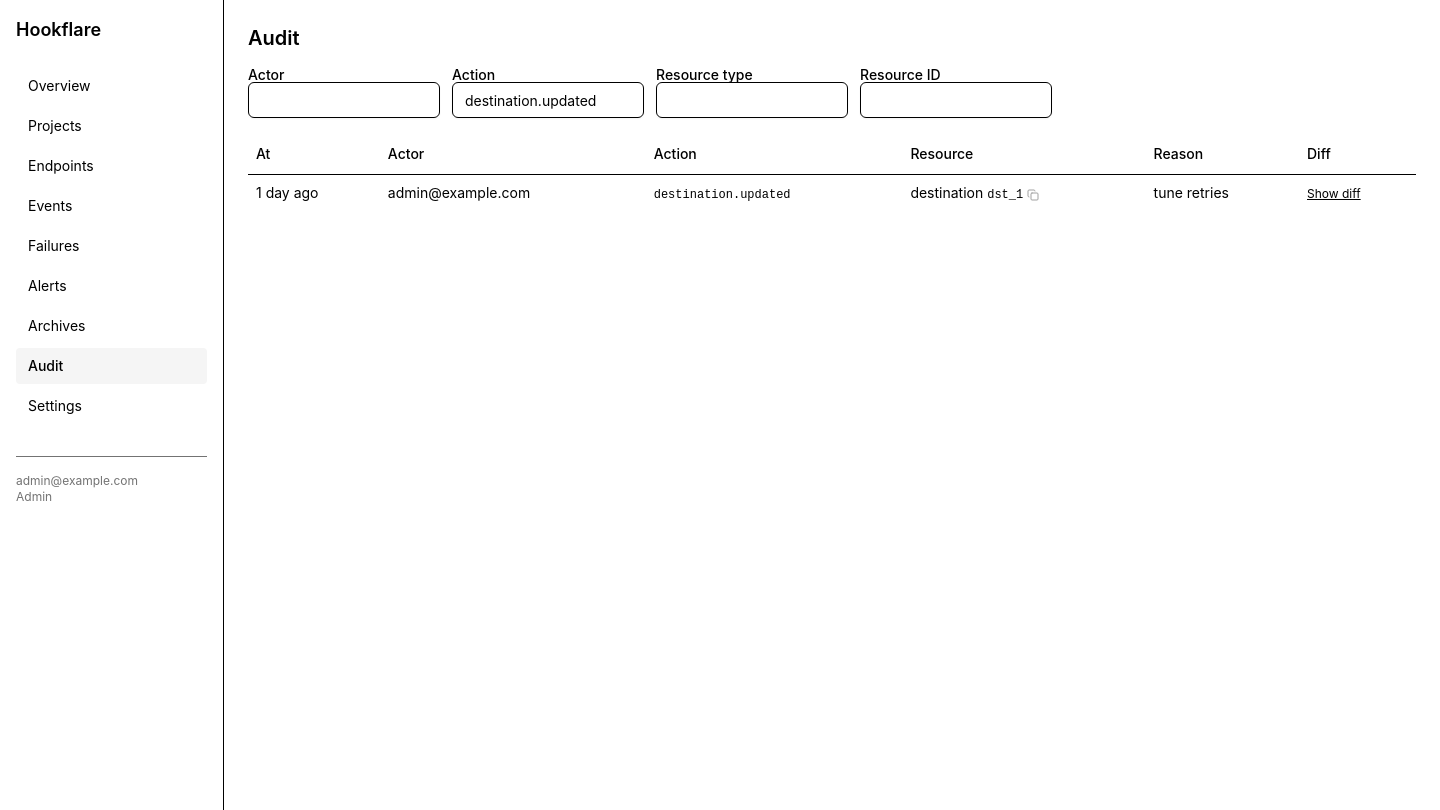
Test case: Audit › lists entries and expands the diff
The width and height of the screenshot is (1440, 810).
Expected: the text "destination.updated" is shown, x1=654 y1=188 x2=790 y2=202
Click the button "Show diff" at (1334, 194), box x1=1307 y1=186 x2=1361 y2=202
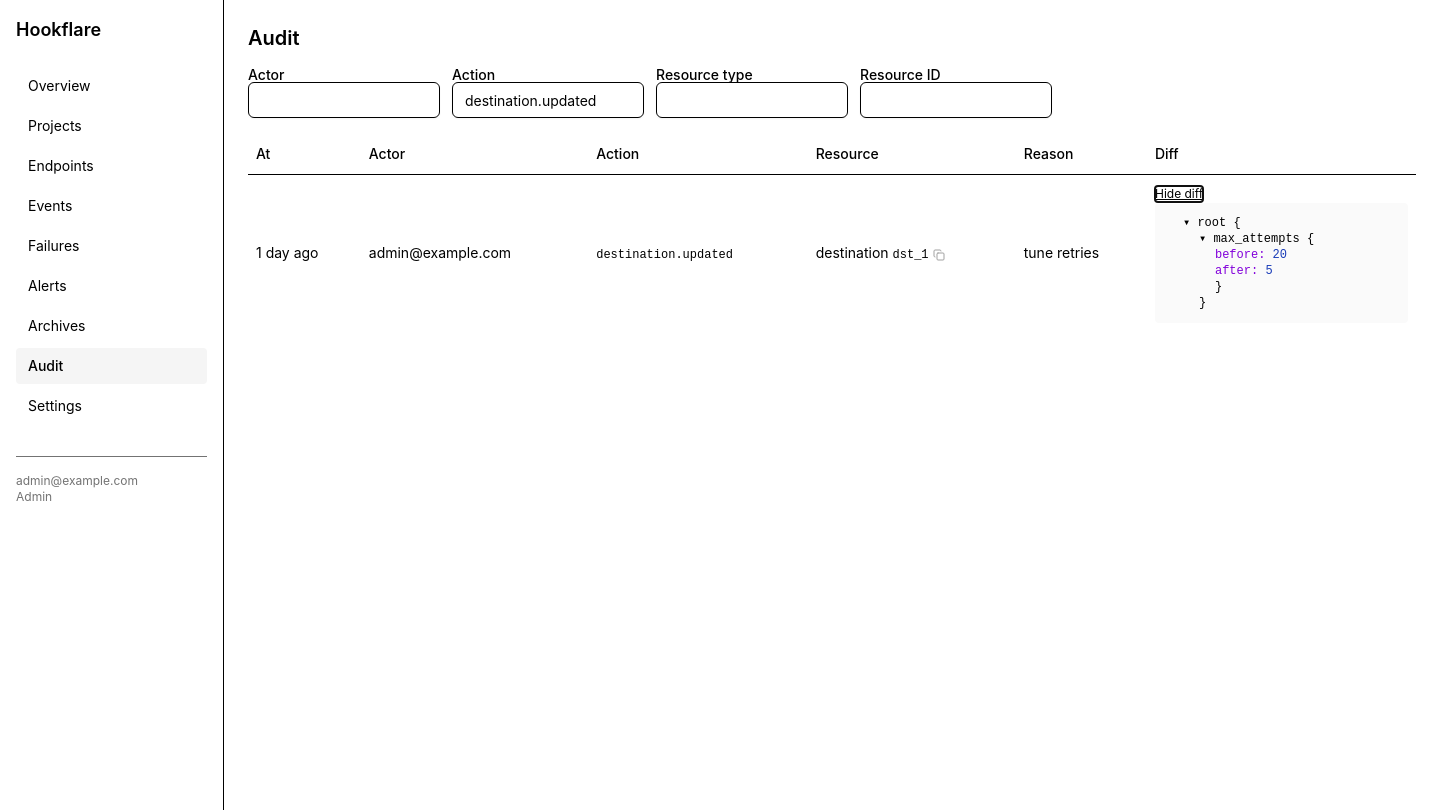
Now the list named "JSON" is shown, box x1=1155 y1=202 x2=1408 y2=322
